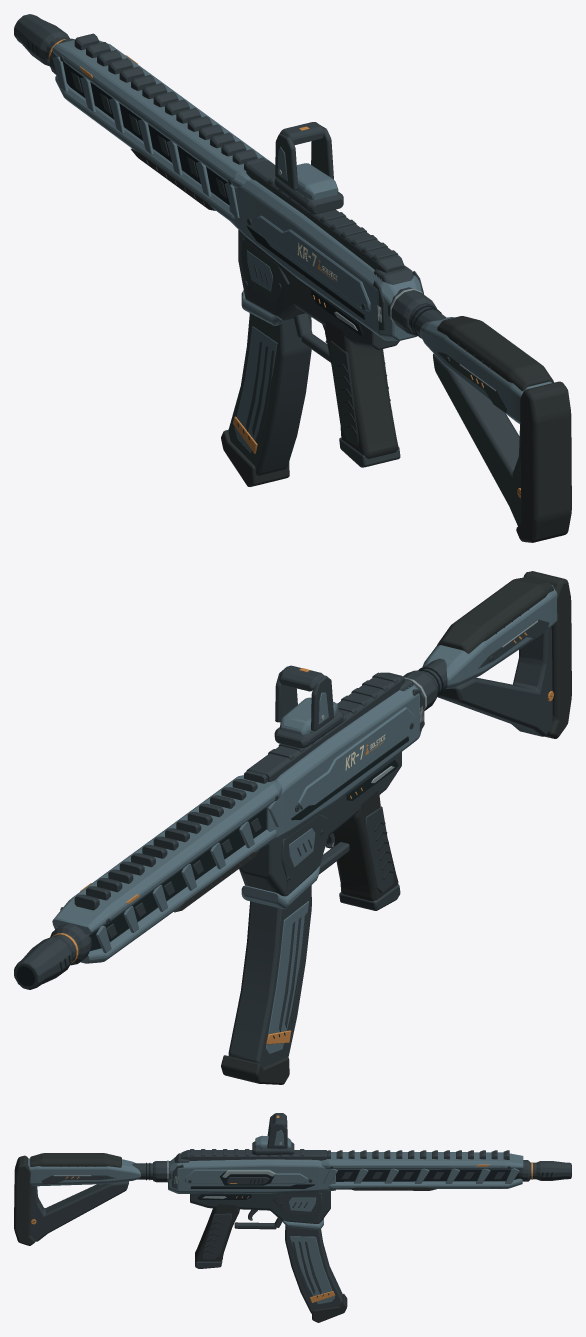
Rendered from hotel-carbine.glb.
The picture shows the model from 3 angles, top to bottom: view 1: azimuth 30°, elevation 25°; view 2: azimuth 150°, elevation 25°; view 3: azimuth 270°, elevation 25°; orthographic projection. The views are drawn at different scales.
Parts seen in each view (by area): view 1: Frame, Stock, Magazine, Optic, Muzzle; view 2: Frame, Stock, Magazine, Optic, Muzzle; view 3: Frame, Stock, Magazine, Optic, Muzzle.
Boxes of the visible parts, bbox=[...] form: Frame: bbox=[52, 33, 423, 467]; Stock: bbox=[388, 287, 571, 542]; Magazine: bbox=[221, 313, 311, 486]; Optic: bbox=[274, 122, 343, 214]; Muzzle: bbox=[14, 14, 74, 74]; Frame: bbox=[52, 672, 424, 963]; Stock: bbox=[403, 571, 571, 738]; Magazine: bbox=[221, 885, 311, 1084]; Optic: bbox=[274, 665, 343, 748]; Muzzle: bbox=[14, 923, 91, 989]; Frame: bbox=[168, 1149, 523, 1268]; Stock: bbox=[14, 1153, 171, 1245]; Magazine: bbox=[285, 1225, 347, 1322]; Optic: bbox=[252, 1113, 294, 1154]; Muzzle: bbox=[518, 1160, 571, 1181].
Bounding box in the file's own units: 0.0446 × 0.3143 × 0.7864.
1 material, 1 textured.
